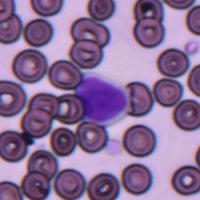L: (73, 72, 130, 125)
